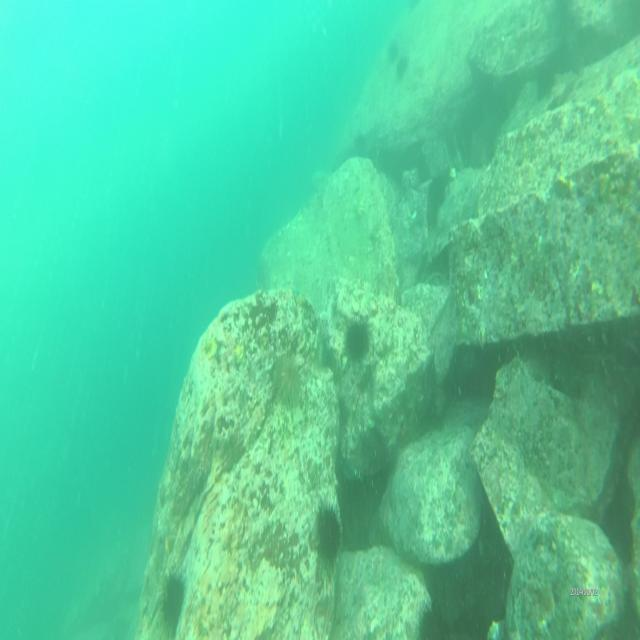echinus: (272, 358, 304, 406), (315, 504, 340, 555), (158, 572, 184, 616), (344, 314, 366, 357), (384, 40, 400, 62), (396, 54, 410, 78)
